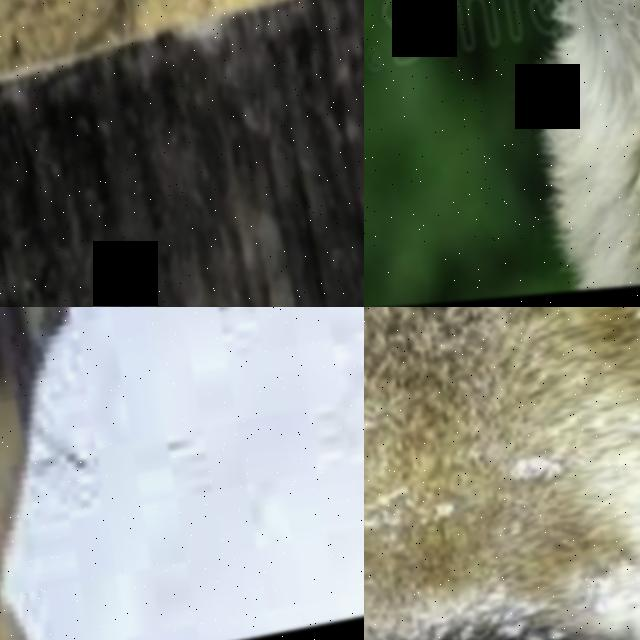wolf: (364, 307, 640, 640), (408, 0, 640, 305), (0, 307, 157, 640)
